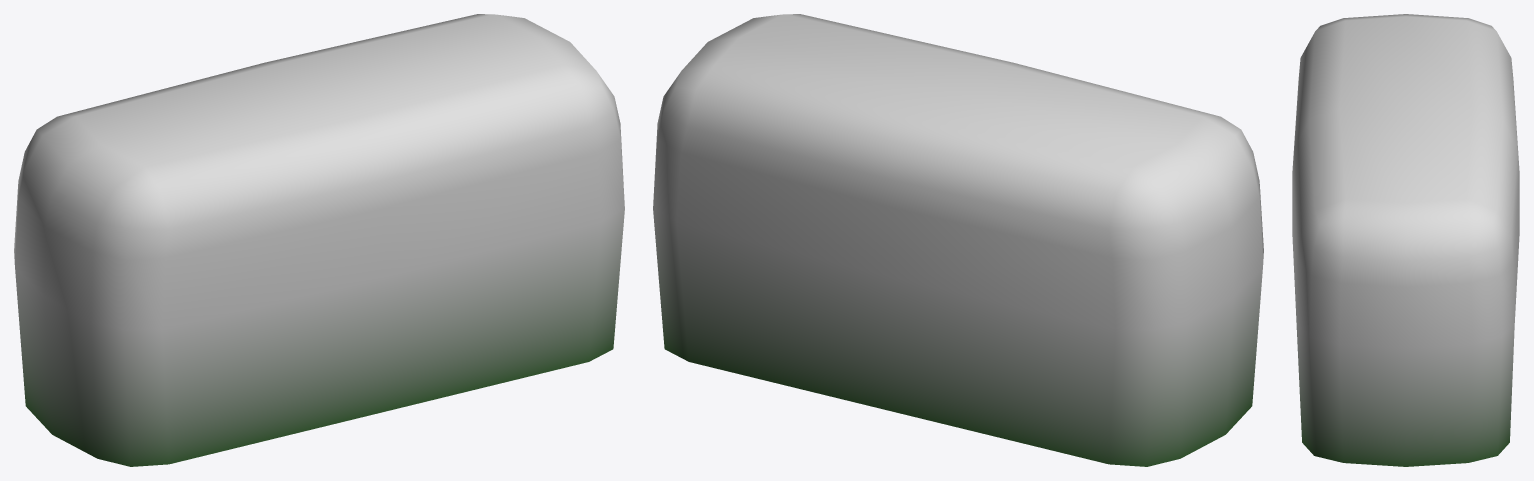
File: NF_Veg_Bush_04.fbx
3 views of the same model, side by side, from view 1: azimuth 30°, elevation 25°; view 2: azimuth 150°, elevation 25°; view 3: azimuth 270°, elevation 25° (orthographic). The views are drawn at different scales.
Parts seen in each view (by area): view 1: Bush 04; view 2: Bush 04; view 3: Bush 04.
Part boxes in pixels (left/top/right/bottom): Bush 04: left=14, top=14, right=624, bottom=466; Bush 04: left=653, top=14, right=1263, bottom=466; Bush 04: left=1292, top=14, right=1519, bottom=466.
Bounding box in the file's own units: 1.86 × 0.8995 × 0.7623.
